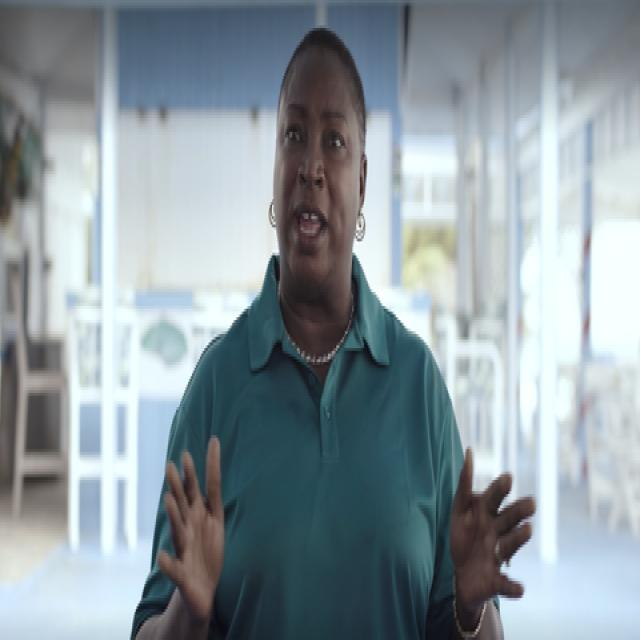mobile_phonerotation: (128, 25, 535, 637)
